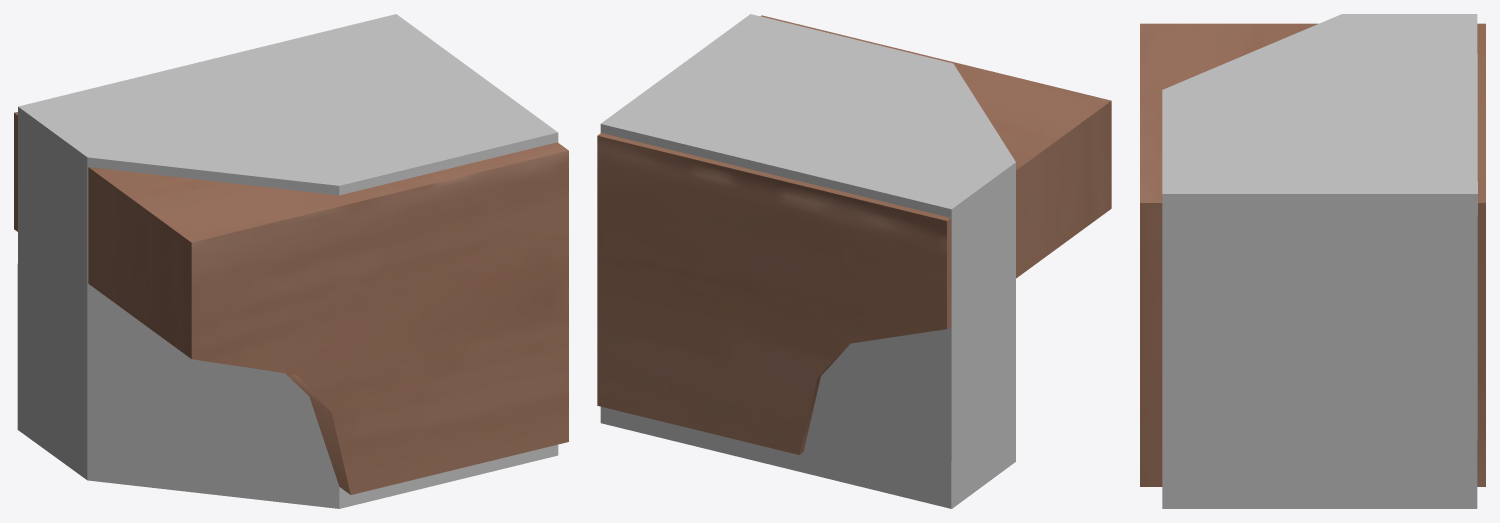
The model's file is SM_wooden_beam_06.fbx.
The picture shows the model from 3 angles, left to right: view 1: azimuth 30°, elevation 25°; view 2: azimuth 150°, elevation 25°; view 3: azimuth 270°, elevation 25°; orthographic projection. The views are drawn at different scales.
Visible parts, largest first — view 1: SM_wooden_beam_06_ConvexHulls, SM_wooden_beam_06; view 2: SM_wooden_beam_06, SM_wooden_beam_06_ConvexHulls; view 3: SM_wooden_beam_06_ConvexHulls, SM_wooden_beam_06.
Part boxes in pixels (x1,y1,x2,y2): SM_wooden_beam_06_ConvexHulls: (17, 14, 558, 508); SM_wooden_beam_06: (14, 112, 568, 494); SM_wooden_beam_06: (597, 15, 1111, 454); SM_wooden_beam_06_ConvexHulls: (600, 14, 1015, 508); SM_wooden_beam_06_ConvexHulls: (1162, 14, 1477, 508); SM_wooden_beam_06: (1140, 23, 1485, 486).
Bounding box in the file's own units: 56.93 × 46.17 × 46.37.
